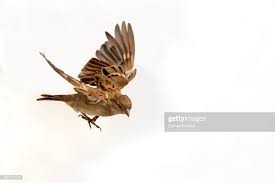hsparrow: (30, 20, 149, 131)
